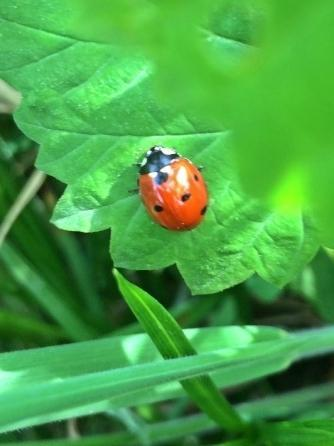ladybug: (127, 144, 212, 235)
